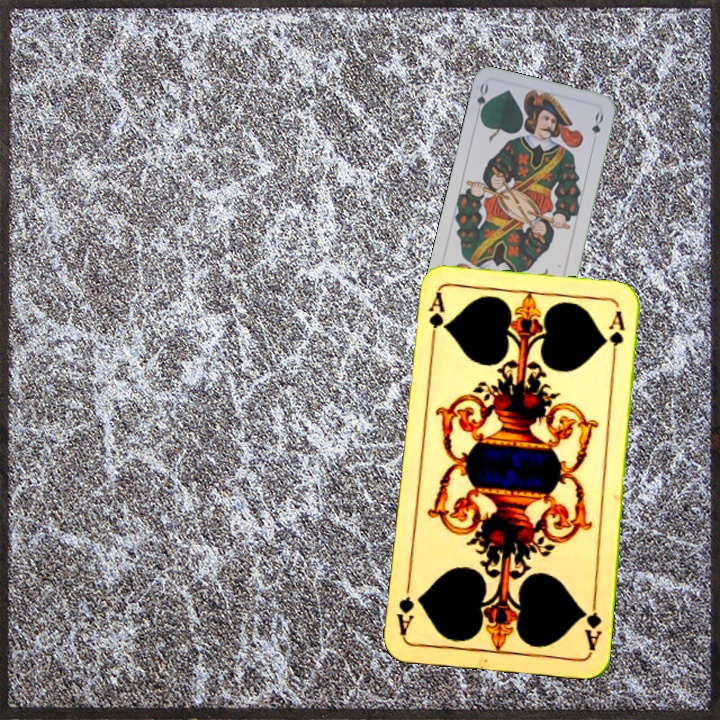GA: (578, 594, 604, 653), (424, 289, 447, 348)
GO: (472, 80, 492, 121)
